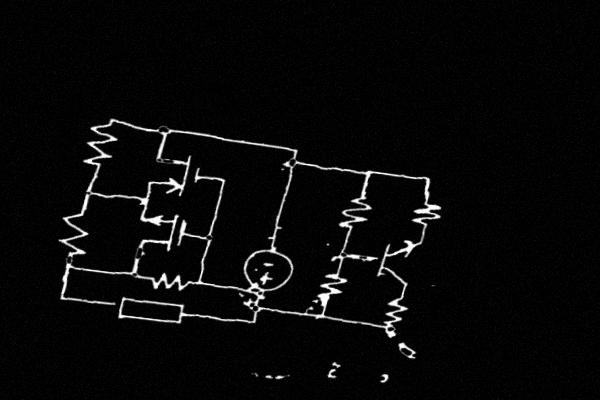resistor: (48, 201, 101, 267), (75, 117, 125, 176), (335, 188, 378, 238), (405, 192, 449, 237), (310, 265, 352, 312), (142, 267, 197, 296), (380, 288, 414, 329)
voltage: (237, 237, 302, 294)
